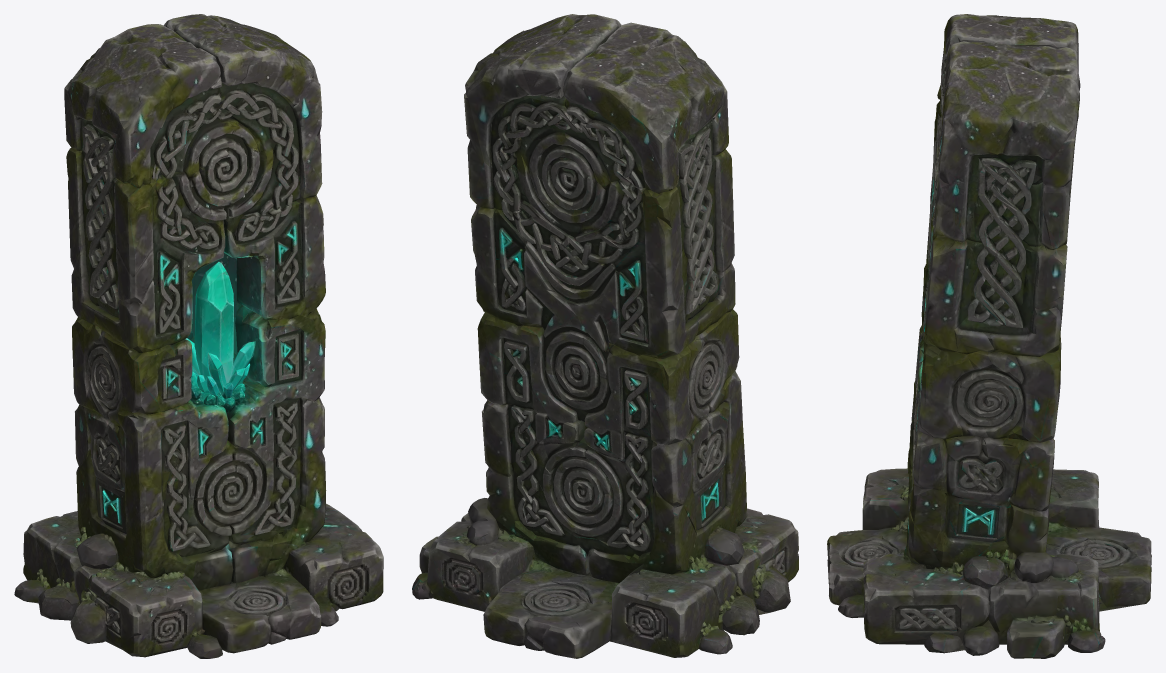
Rendered from timestone.glb.
3 renders of one model, left to right at view 1: azimuth 30°, elevation 25°; view 2: azimuth 150°, elevation 25°; view 3: azimuth 270°, elevation 25°, orthographic. The views are drawn at different scales.
Visible parts, largest first — view 1: timestone; view 2: timestone; view 3: timestone.
Part boxes in pixels (bbox=[...]): timestone: bbox=[14, 14, 383, 658]; timestone: bbox=[412, 14, 798, 658]; timestone: bbox=[827, 14, 1151, 658].
Bounding box in the file's own units: 3.27 × 5.52 × 2.96.
1 material, 1 textured.
